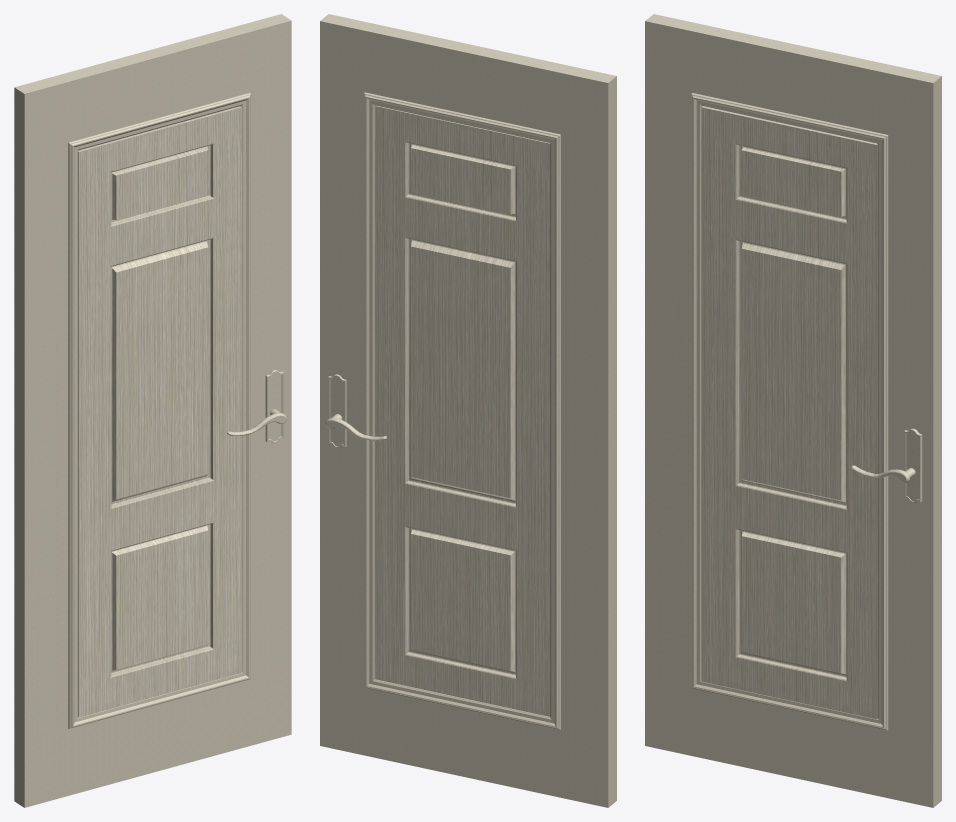
The model's file is door.FBX.
3 views of the same model, side by side, from view 1: azimuth 30°, elevation 25°; view 2: azimuth 150°, elevation 25°; view 3: azimuth 330°, elevation 25° (orthographic).
Parts seen in each view (by area): view 1: Box002; view 2: Box002; view 3: Box002.
Boxes of the visible parts, left/top/right/bottom form: Box002: left=14, top=14, right=291, bottom=807; Box002: left=320, top=14, right=616, bottom=807; Box002: left=645, top=14, right=941, bottom=807.
Bounding box in the file's own units: 1.07 × 2.64 × 0.1924.
Materials: 1 (1 with a texture image).
